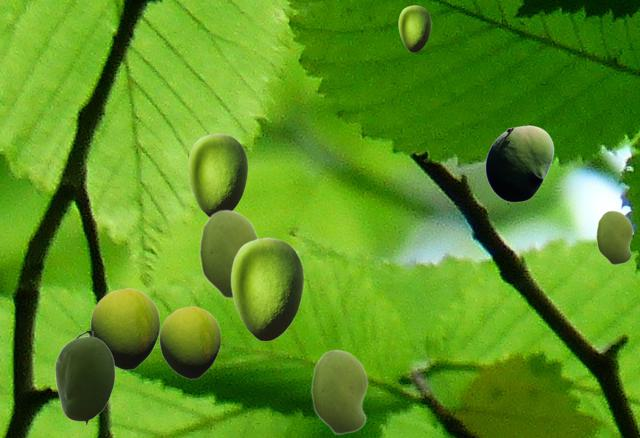green_mango: (230, 237, 303, 340), (54, 331, 114, 425), (90, 288, 159, 369), (199, 209, 258, 298), (485, 125, 553, 201), (187, 133, 247, 216), (311, 349, 367, 434), (159, 306, 220, 378), (596, 210, 632, 264), (398, 5, 430, 51)
